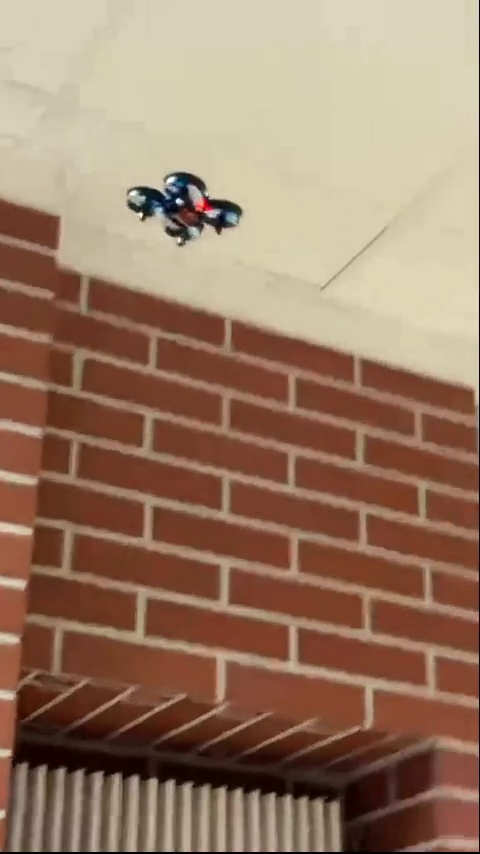drone: (125, 168, 246, 249)
